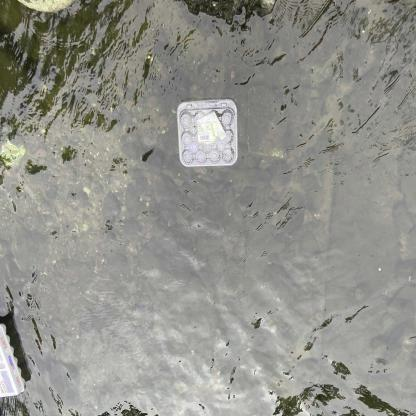Metal: (0, 127, 30, 175)
Plastic: (171, 94, 243, 173), (0, 314, 30, 400)
